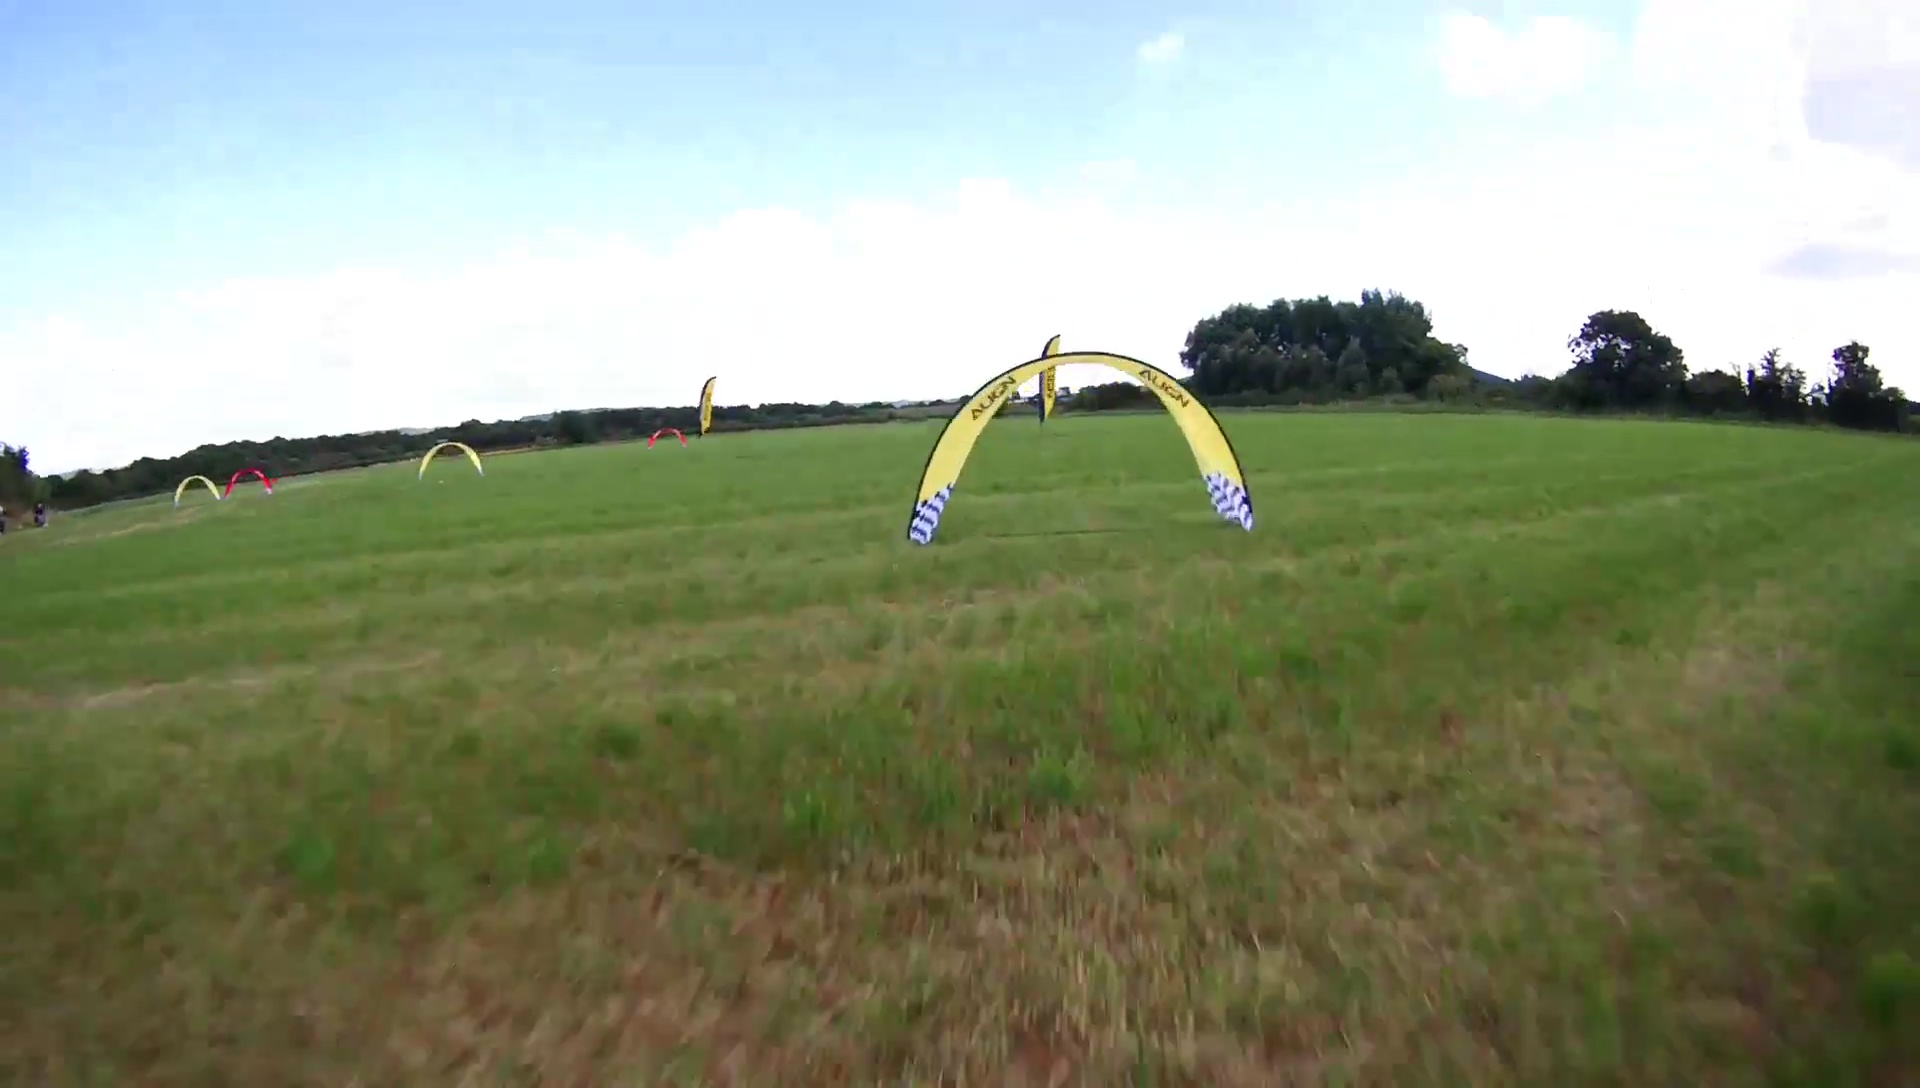gate: (905, 349, 1257, 549), (415, 440, 487, 481), (225, 464, 280, 499), (174, 476, 222, 505), (646, 425, 688, 450)
